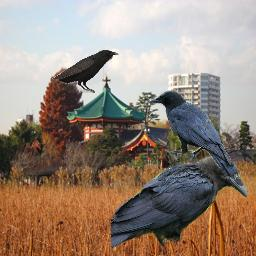Crow: (111, 154, 249, 249), (148, 90, 239, 179), (52, 49, 119, 93)
